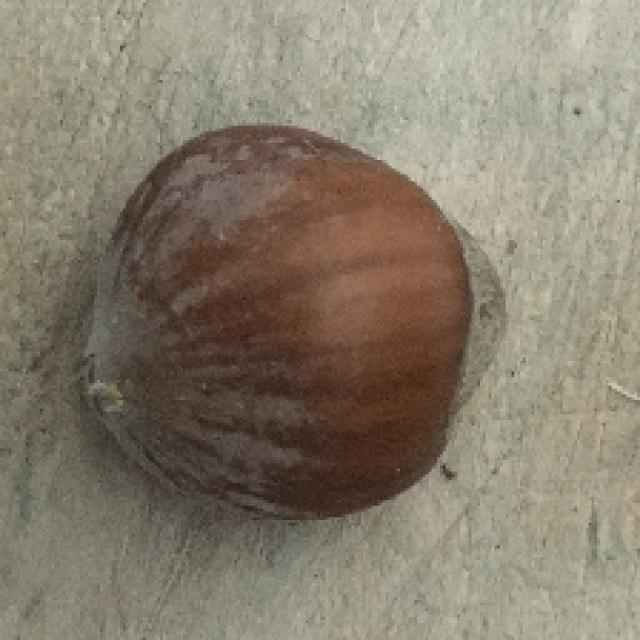qualityHazelnut: (75, 121, 512, 536)
